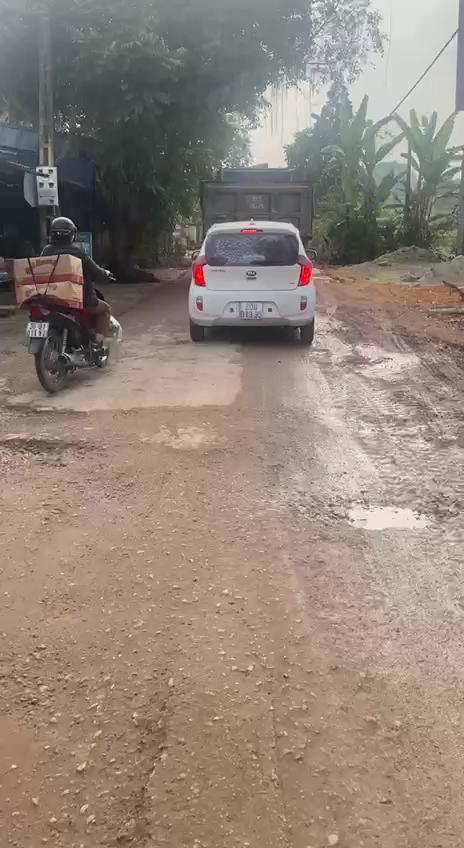pothole: (0, 590, 171, 848), (329, 487, 458, 535), (0, 430, 111, 473)
